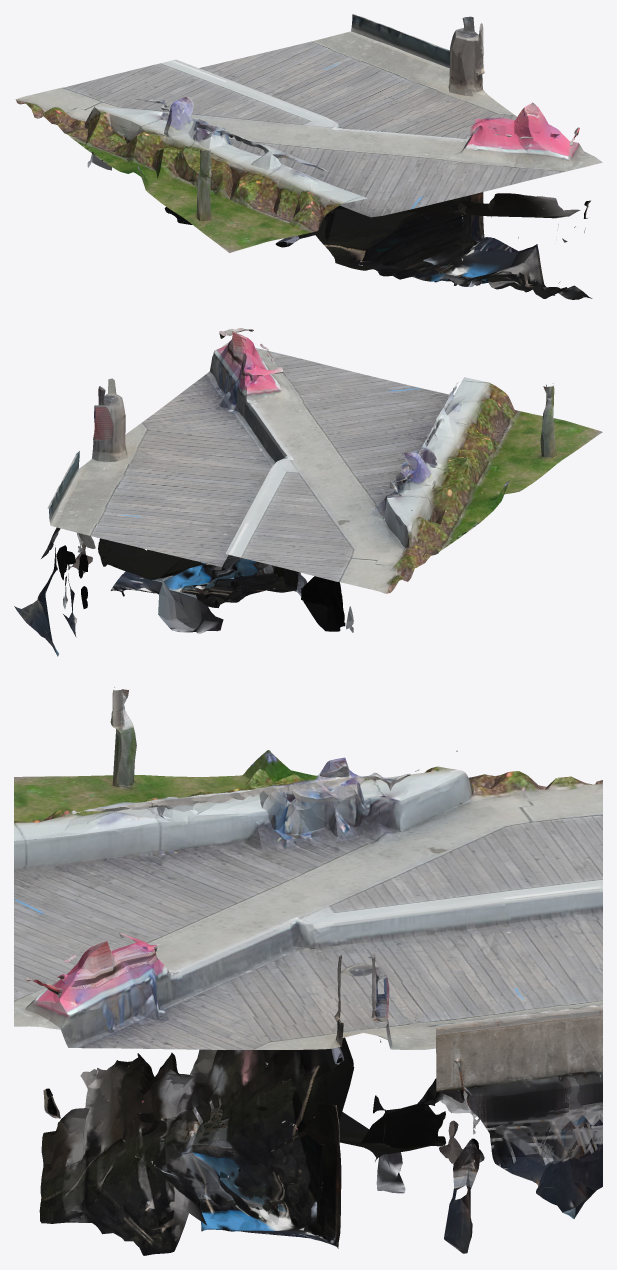
3 renders of one model, top to bottom at view 1: azimuth 30°, elevation 25°; view 2: azimuth 150°, elevation 25°; view 3: azimuth 270°, elevation 25°, orthographic. The views are drawn at different scales.
Bounding box in the file's own units: 8.36 × 5.24 × 8.36.
5 materials, 5 textured.
